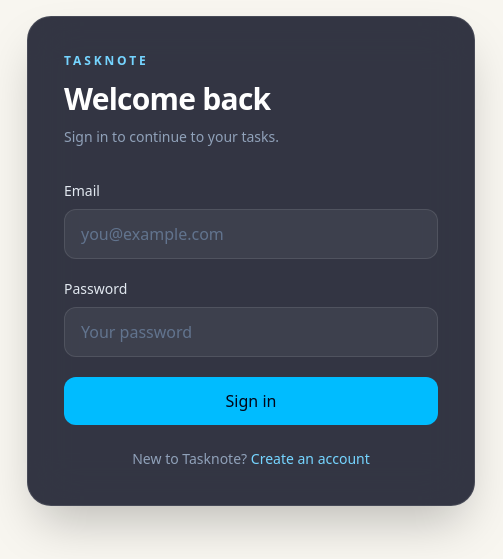
Scenario: AuthScreen › shows the login form and switches to registration mode
Expected: the heading "Welcome back" is shown, x1=64 y1=78 x2=270 y2=119
Click the button "Create an account": point(310, 459) x1=251 y1=449 x2=370 y2=469
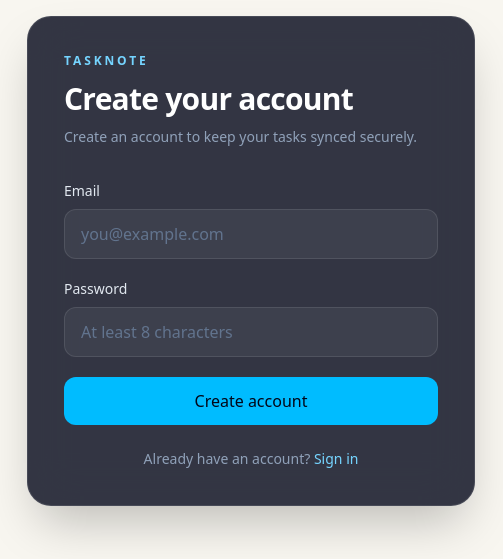
Expected: the heading "Create your account" is shown, x1=64 y1=78 x2=353 y2=119
Expected: the button "Create account" is shown, x1=64 y1=377 x2=438 y2=425
